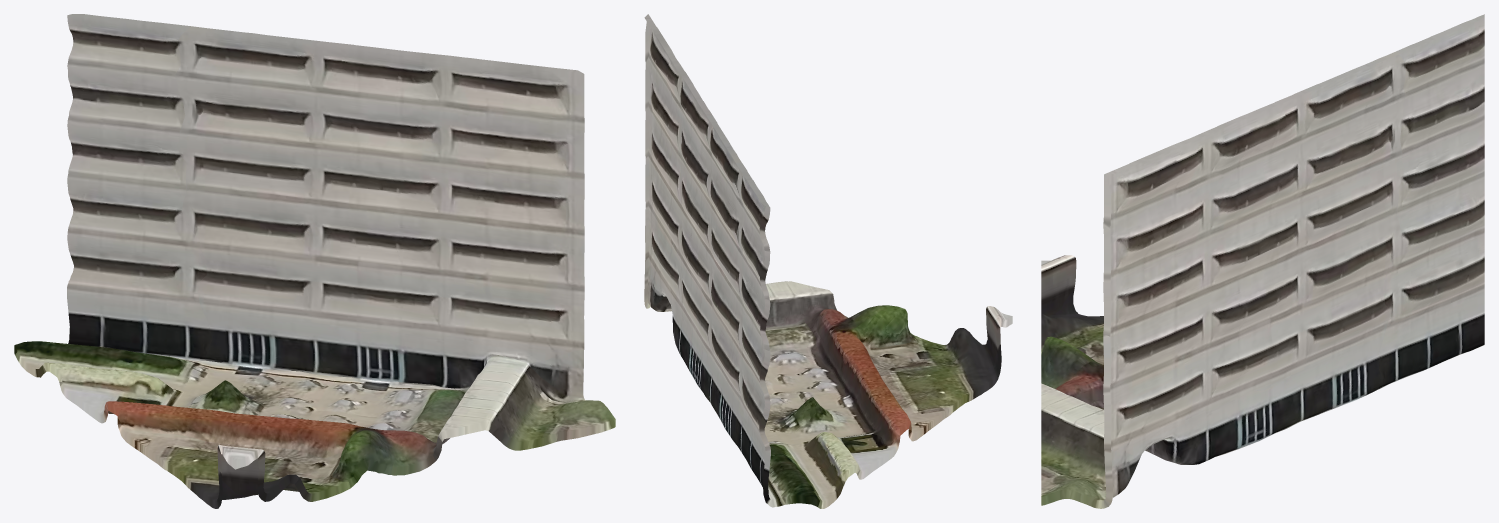
File: z20-167785-405229-h0-yup-uvflip-v3-world.glb
3 renders of one model, left to right at view 1: azimuth 30°, elevation 25°; view 2: azimuth 150°, elevation 25°; view 3: azimuth 270°, elevation 25°, orthographic. The views are drawn at different scales.
Bounding box in the file's own units: 30.16 × 25.64 × 30.32.
Materials: 1 (1 with a texture image).
